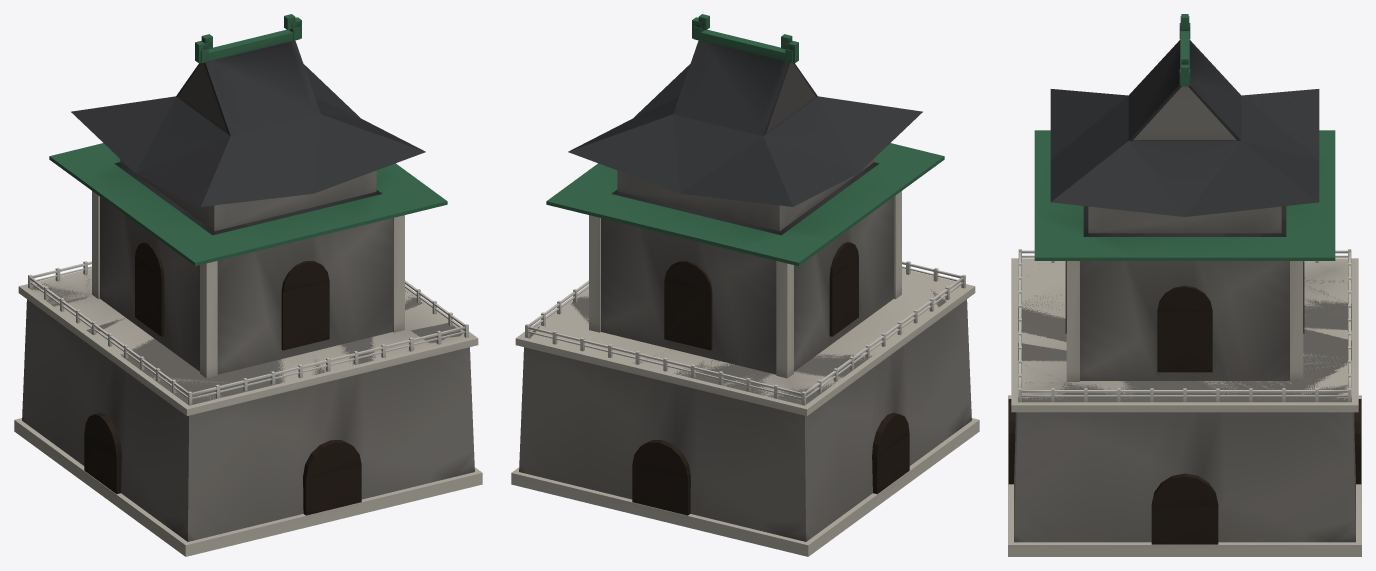
File: bell-tower.glb
The picture shows the model from 3 angles, left to right: view 1: azimuth 30°, elevation 25°; view 2: azimuth 150°, elevation 25°; view 3: azimuth 270°, elevation 25°; orthographic projection. The views are drawn at different scales.
Parts seen in each view (by area): view 1: p0_base, p2_roofs, p1_tower; view 2: p0_base, p2_roofs, p1_tower; view 3: p0_base, p2_roofs, p1_tower.
Boxes of the visible parts, x1,y1,x2,y2 form: p0_base: (14, 261, 482, 556); p2_roofs: (49, 14, 447, 266); p1_tower: (92, 191, 404, 378); p0_base: (511, 261, 979, 556); p2_roofs: (546, 14, 944, 266); p1_tower: (589, 191, 901, 378); p0_base: (1008, 249, 1361, 556); p2_roofs: (1034, 14, 1335, 260); p1_tower: (1065, 261, 1304, 381).
Bounding box in the file's own units: 32 × 44.44 × 32.
